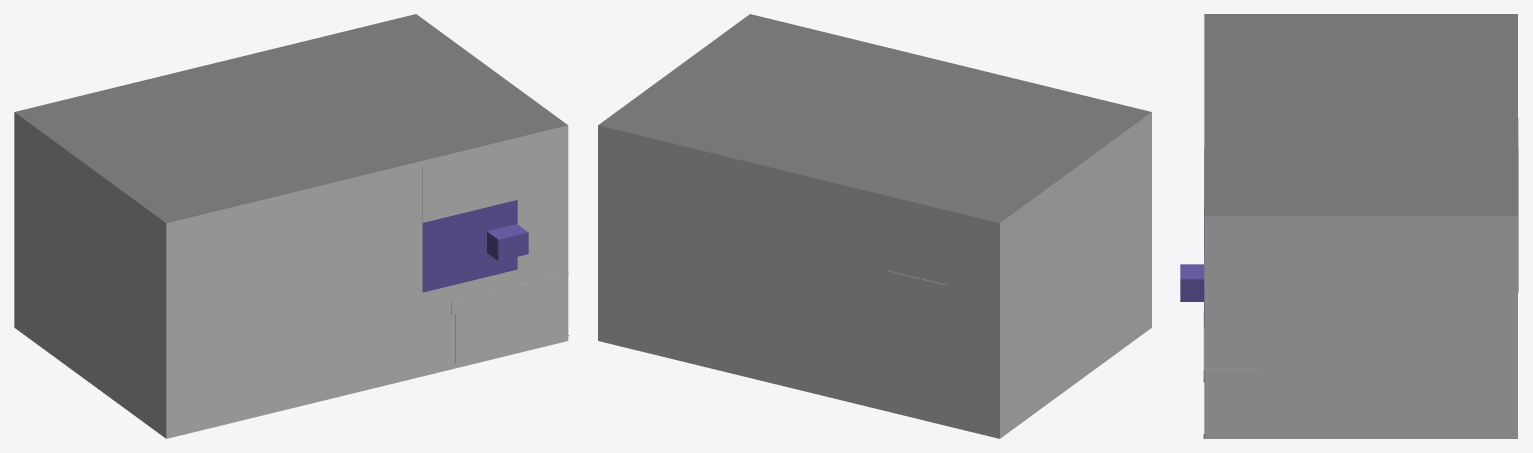
File: 手术室_准备间.fbx
3 renders of one model, left to right at view 1: azimuth 30°, elevation 25°; view 2: azimuth 150°, elevation 25°; view 3: azimuth 270°, elevation 25°, orthographic. The views are drawn at different scales.
Visible parts, largest first — view 1: Wall1_001, Plane_001, Shelf_Wall1_001; view 2: Wall1_001, Plane_001; view 3: Wall1_001, Plane_001, Shelf_Wall1_001.
Part boxes in pixels (x1,y1,x2,y2): Wall1_001: [14, 112, 568, 438]; Plane_001: [15, 14, 567, 223]; Shelf_Wall1_001: [422, 200, 528, 292]; Wall1_001: [598, 112, 1151, 438]; Plane_001: [598, 14, 1151, 223]; Wall1_001: [1204, 216, 1517, 438]; Plane_001: [1204, 14, 1517, 216]; Shelf_Wall1_001: [1180, 207, 1204, 326].
Size of the model in its own units: 602 by 308 by 424.
